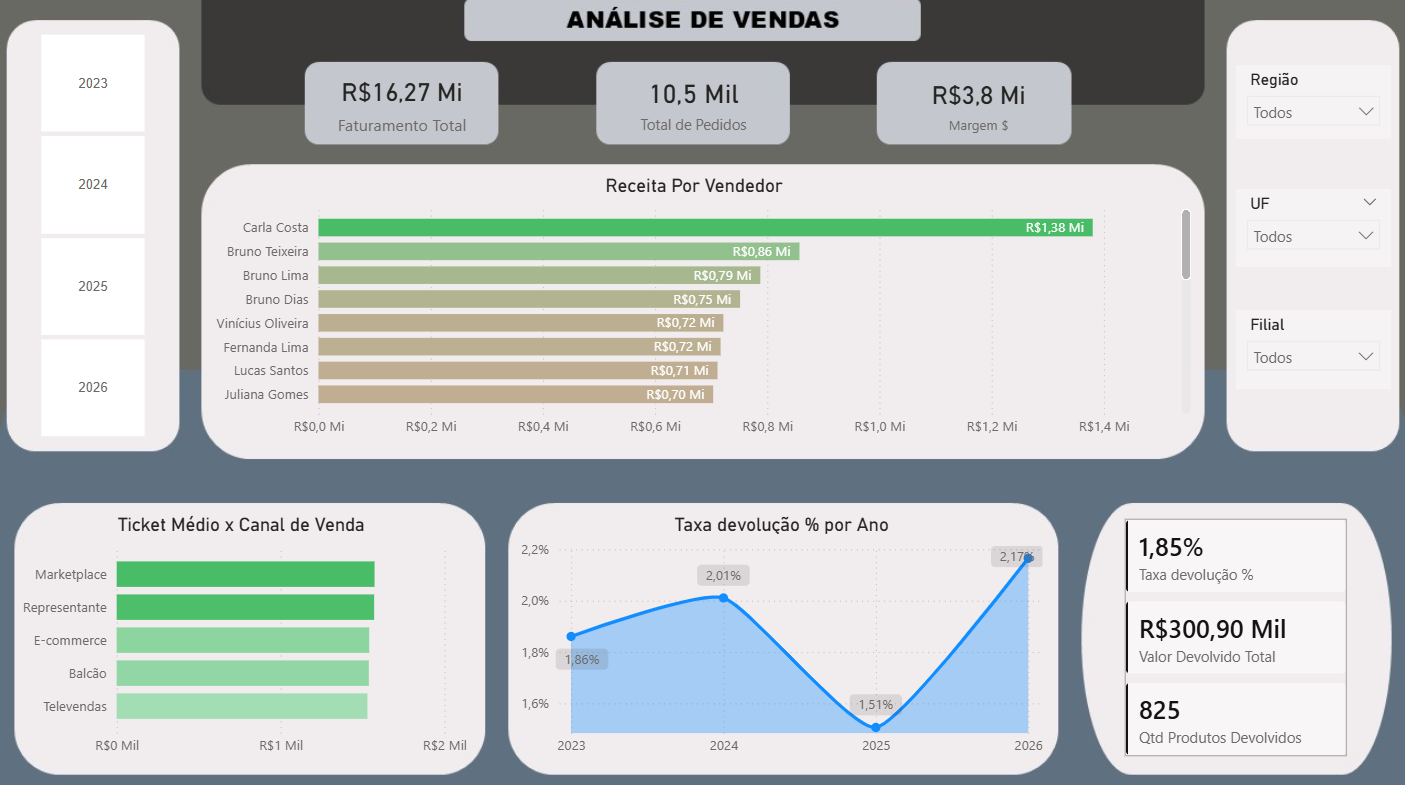

Layout of this report page (visuals, bound fields, positions):
{"tool":"powerbi","page":{"name":"Análise de Vendas","canvas":[1280,720],"ordinal":1},"visuals":[{"type":"slicer","fields":{"Values":["Filiais.Filial"]},"box":[1124.6,283.1,140.8,71.5],"z":0},{"type":"slicer","fields":{"Values":["Clientes.Regiao"]},"box":[1124.5,60,140.9,67.3],"z":1000},{"type":"slicer","fields":{"Values":["Clientes.UF"]},"box":[1124.6,172.3,140.8,70.8],"z":2000},{"type":"clusteredBarChart","title":"Receita Por Vendedor","fields":{"Category":["Vendedores.Vendedor"],"Y":["Sum(Vendas.Receita_Liquida)"]},"box":[175.5,159.1,912.7,247.3],"z":3000},{"type":"barChart","title":"Ticket Médio x Canal de Venda","fields":{"Category":["Pedidos.Canal_Venda"],"Y":["Vendas.Ticket Medio Total"]},"box":[10,467,420,229],"z":4000},{"type":"cardVisual","fields":{"Data":["Vendas.Taxa devolução %","Vendas.Valor Devolvido Total","Vendas.Qtd Produtos Devolvidos"]},"box":[1006.4,455.5,236.4,251.8],"z":5000},{"type":"lineChart","fields":{"Y":["Vendas.Taxa devolução %"],"Category":["Calendario.Ano"]},"box":[469.1,467.3,484.5,229.1],"z":6000},{"type":"slicer","fields":{"Values":["Calendario.Ano"]},"box":[16.4,25.5,136.4,379.1],"z":7000},{"type":"card","fields":{"Values":["Vendas.Faturamento Total"]},"box":[290,61.8,152.7,63.6],"z":8000},{"type":"card","fields":{"Values":["Vendas.Qtd Total Pedido"]},"box":[555.5,61.8,151.8,63.6],"z":9000},{"type":"card","fields":{"Values":["Vendas.Margem $"]},"box":[814.7,62,152,65.3],"z":10000}]}

Visuals, with their boxes in screenshot pixels (x1, y1, x2, y2), scaled from the page's 1280x720 canvas onto the 1405x785 screenshot:
slicer - Filiais.Filial: <region>1234, 309, 1389, 387</region>
slicer - Clientes.Regiao: <region>1234, 65, 1389, 139</region>
slicer - Clientes.UF: <region>1234, 188, 1389, 265</region>
"Receita Por Vendedor" clusteredBarChart: <region>193, 173, 1194, 443</region>
"Ticket Médio x Canal de Venda" barChart: <region>11, 509, 472, 759</region>
cardVisual - Vendas.Taxa devolução % x Vendas.Valor Devolvido Total: <region>1105, 497, 1364, 771</region>
lineChart - Vendas.Taxa devolução % x Calendario.Ano: <region>515, 509, 1047, 759</region>
slicer - Calendario.Ano: <region>18, 28, 168, 441</region>
card - Vendas.Faturamento Total: <region>318, 67, 486, 137</region>
card - Vendas.Qtd Total Pedido: <region>610, 67, 776, 137</region>
card - Vendas.Margem $: <region>894, 68, 1061, 139</region>
